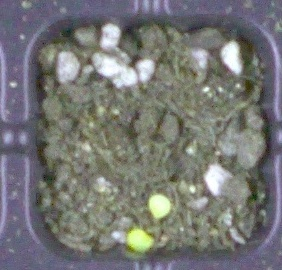chilli seed: (126, 227, 153, 253), (148, 194, 171, 220)
